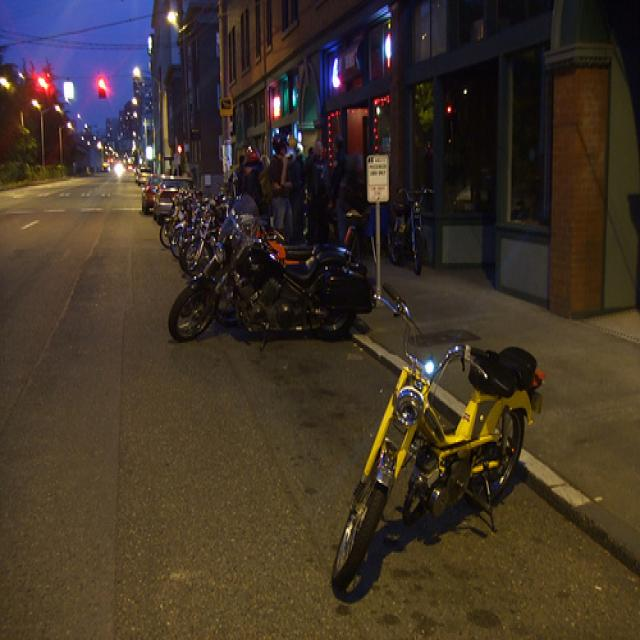Motorbike: (329, 263, 542, 596), (169, 188, 380, 362), (186, 194, 244, 278)
People: (263, 124, 296, 231), (330, 134, 356, 228), (310, 126, 333, 207), (244, 134, 268, 196)
car: (153, 167, 198, 219), (140, 159, 171, 214)
